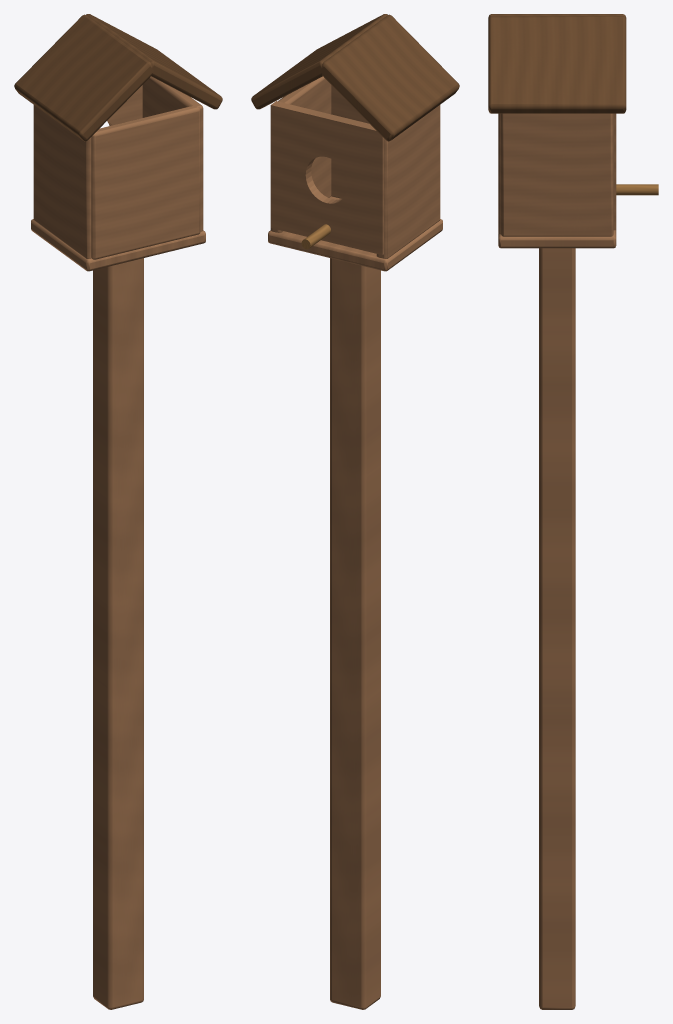
The model's file is Birdhouse.fbx.
The picture shows the model from 3 angles, left to right: view 1: azimuth 30°, elevation 25°; view 2: azimuth 150°, elevation 25°; view 3: azimuth 270°, elevation 25°; orthographic projection. The views are drawn at different scales.
Visible parts, largest first — view 1: Birdhouse__Body; view 2: Birdhouse__Body; view 3: Birdhouse__Body.
Part boxes in pixels (x1,y1,x2,y2): Birdhouse__Body: (14,14,222,1009); Birdhouse__Body: (251,14,459,1009); Birdhouse__Body: (488,14,658,1009).
Bounding box in the file's own units: 28 × 179 × 28.
Materials: 1 (1 with a texture image).
